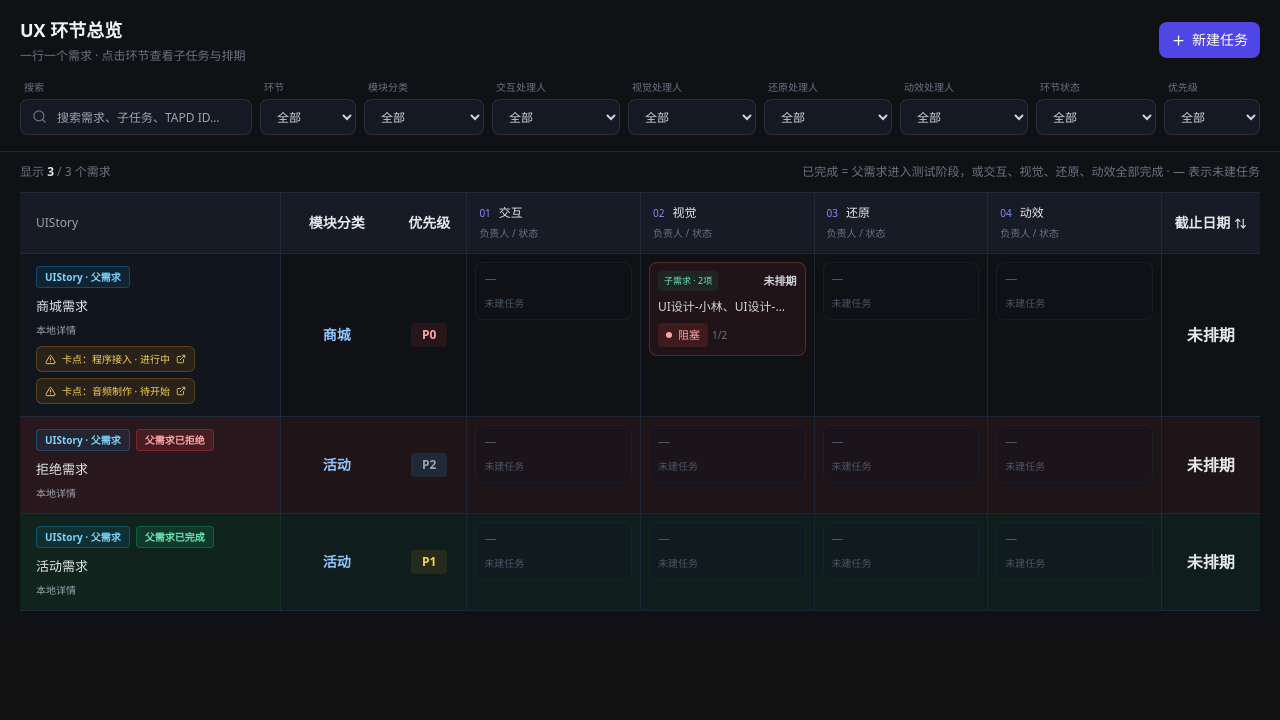
UX stage table › filters by module category and places completed demands after unfinished work
The image size is (1280, 720).
Select "活动" in the dropdown named "模块分类筛选" at (424, 117), box [364,99,484,135]
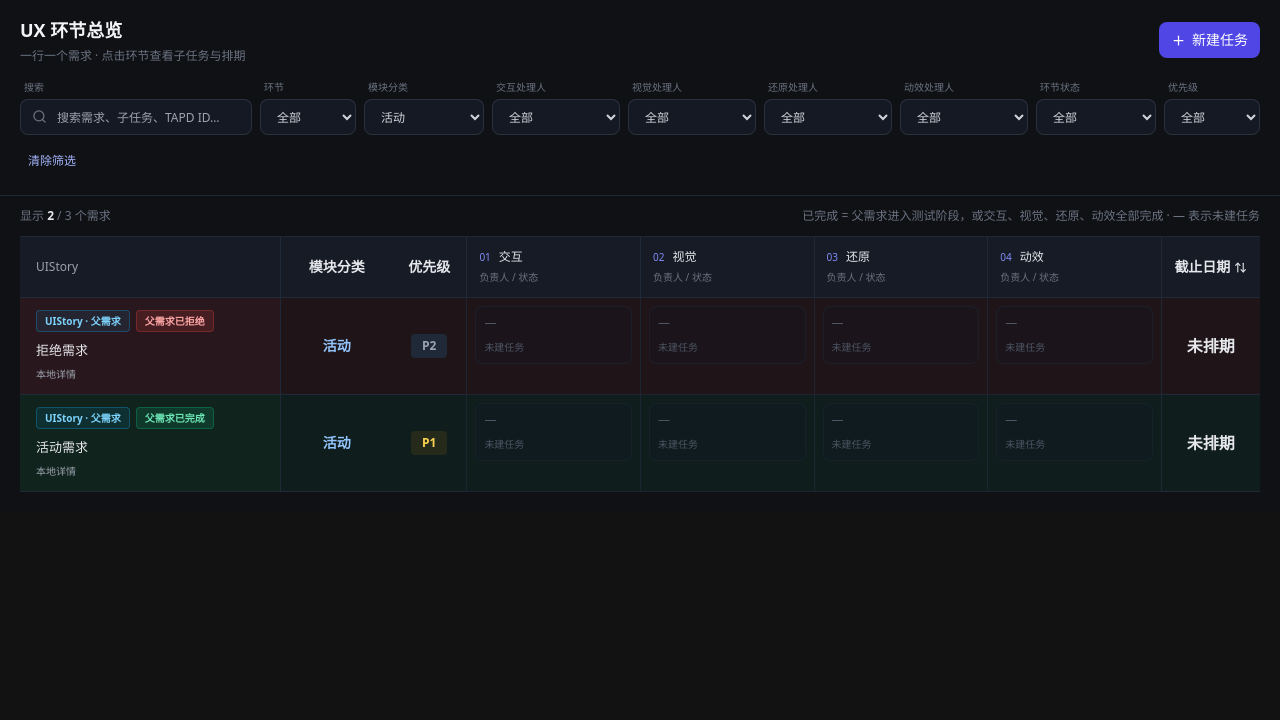
Expected: the button "活动需求" is shown, [36,437,88,457]
Expected: the button "商城需求" is gone
